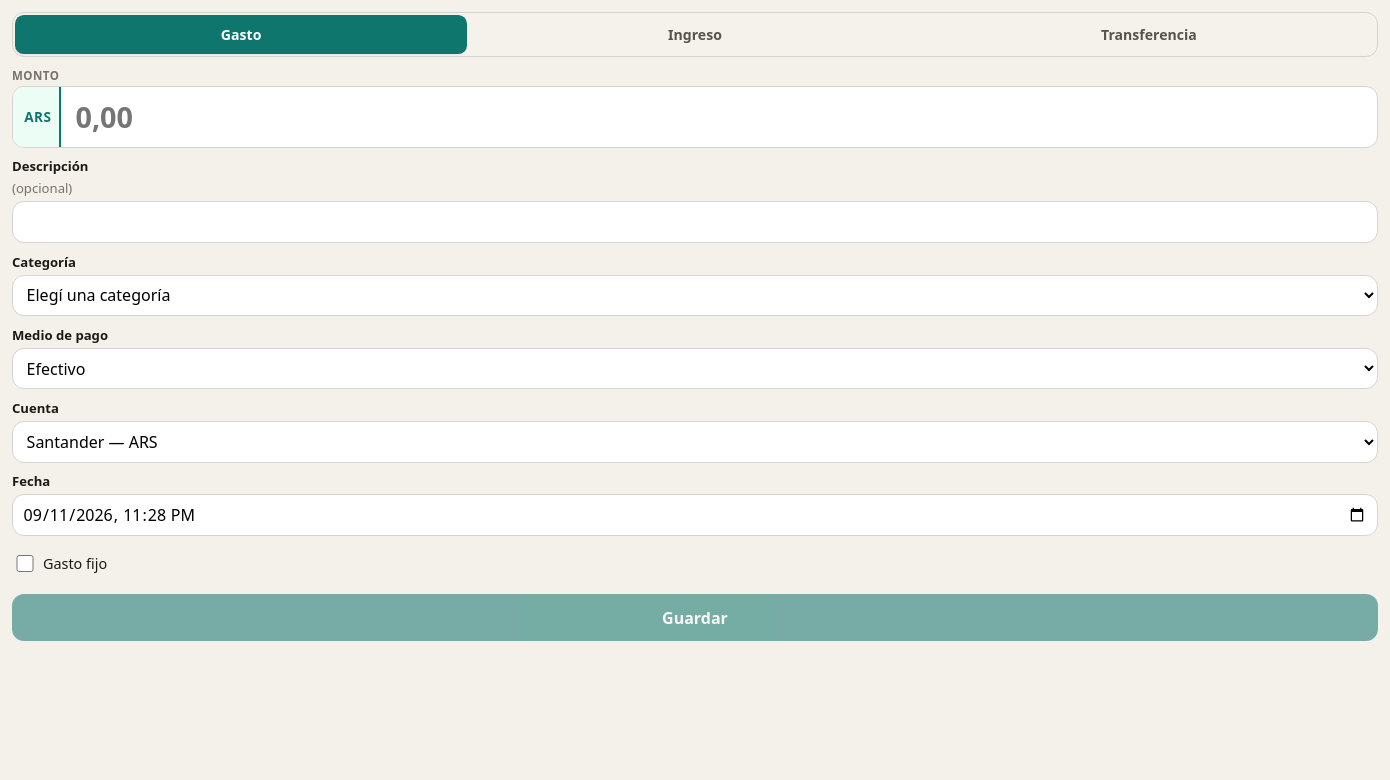
Test case: QuickAddForm › shows the Transferencia tab and hides category when selected
This screenshot has width=1390, height=780.
Expected: the button "Guardar" is shown, left=12, top=594, right=1378, bottom=641
Step 1. Click the button "Transferencia" → (1149, 35), box left=923, top=15, right=1375, bottom=54
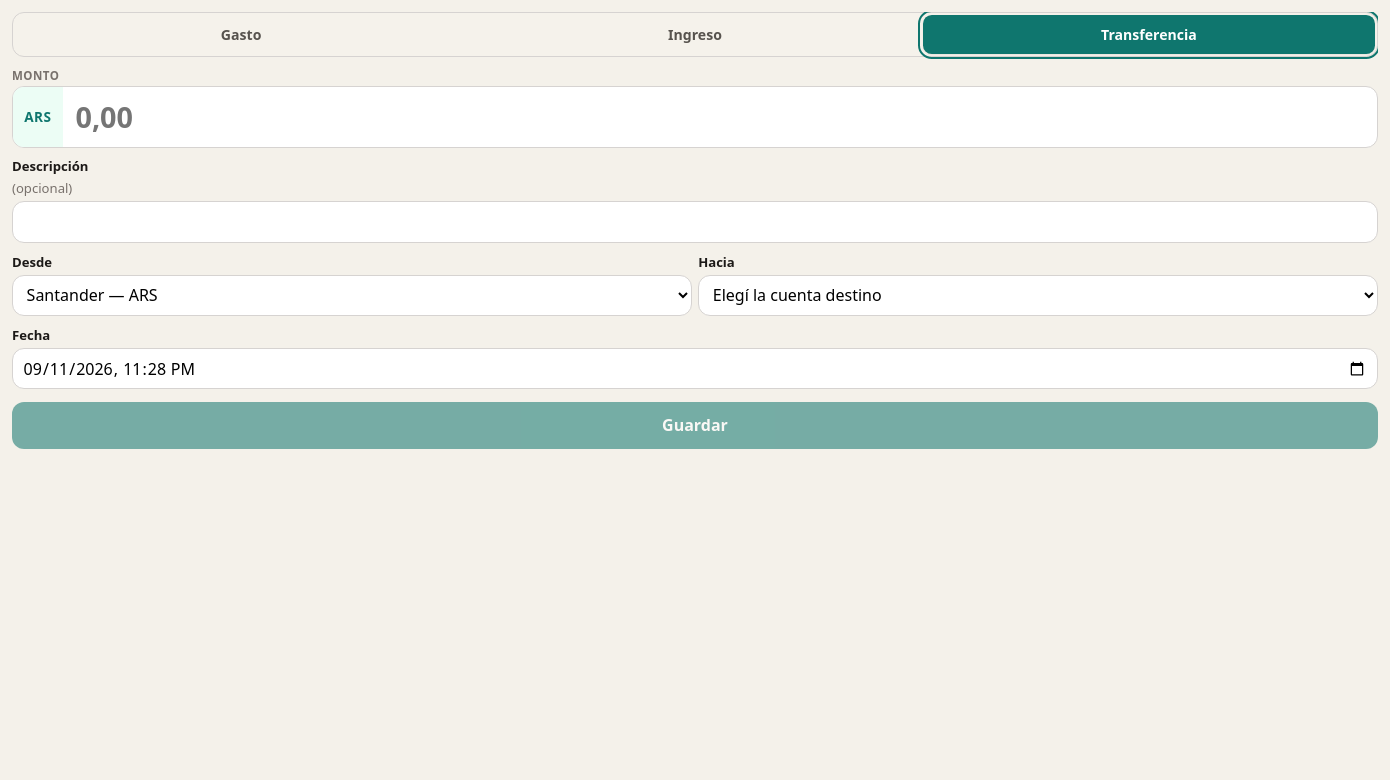
Expected: the dropdown labelled "Desde" is shown, left=12, top=275, right=692, bottom=316
Expected: the label labelled "Categoría" is gone
Expected: the dropdown labelled "Hacia" is shown, left=698, top=275, right=1378, bottom=316
